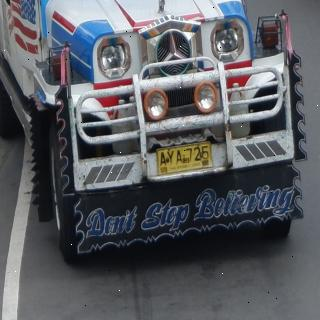license: (158, 143, 213, 176)
